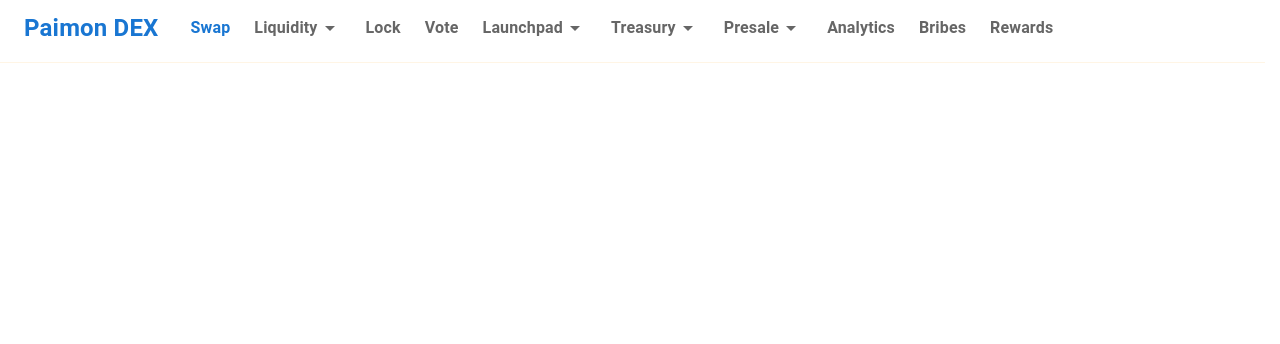
Test case: Navigation Component › Presale Dropdown Menu › opens presale dropdown on click
What coordinates should you click on to do the following:
click the text "Presale"
I would click on:
 (751, 28)
Its box is [724,16,779,40].
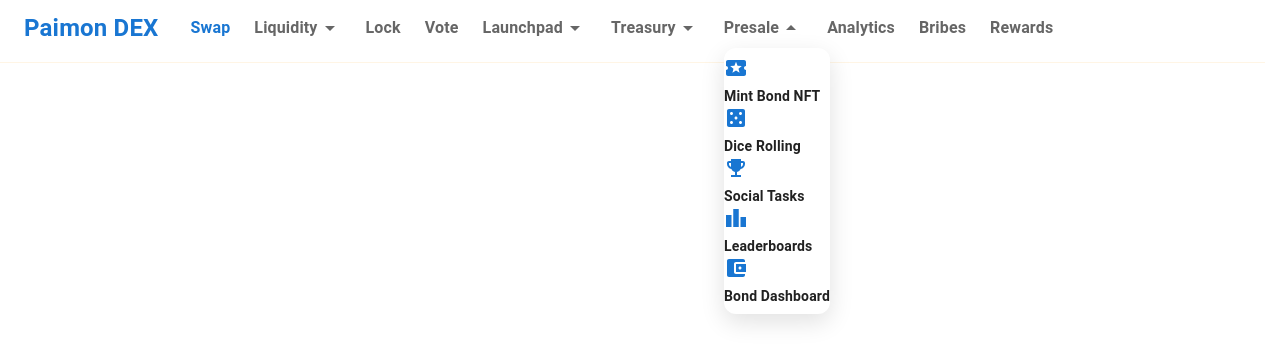
expect the text "Mint Bond NFT" is shown: met, box [724,86,830,106]
expect the text "Dice Rolling" is shown: met, box [724,138,801,154]
expect the text "Social Tasks" is shown: met, box [724,188,804,204]
